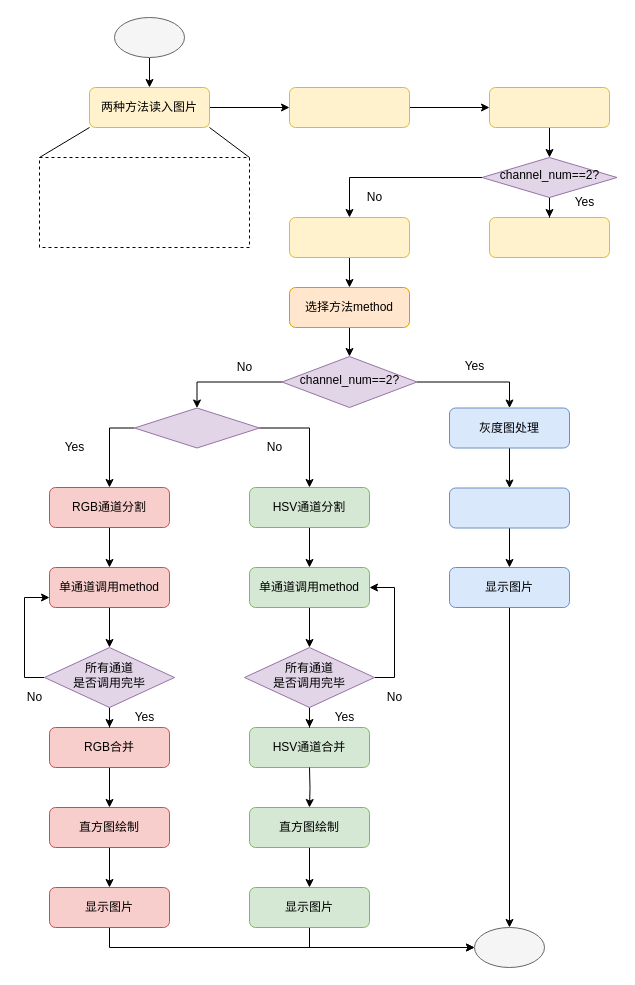
This 635x985 diagram has some shape labels left out. The centre of each missing label's shape, as x and y in pixels:
img_cv: cv形式用于彩色图HSV分割 img：img形式用于彩色图RGB分割以及灰度图: point (144, 202)
开始: point (149, 37)
结束: point (509, 947)
绘制原图片直方图: point (549, 237)
绘制直方图: point (509, 507)
计算图片像素数组: arr: point (349, 107)
计算图片通道值：channel_num: point (549, 107)
进入执行函数implement: point (349, 237)
选择RGB？: point (197, 427)
